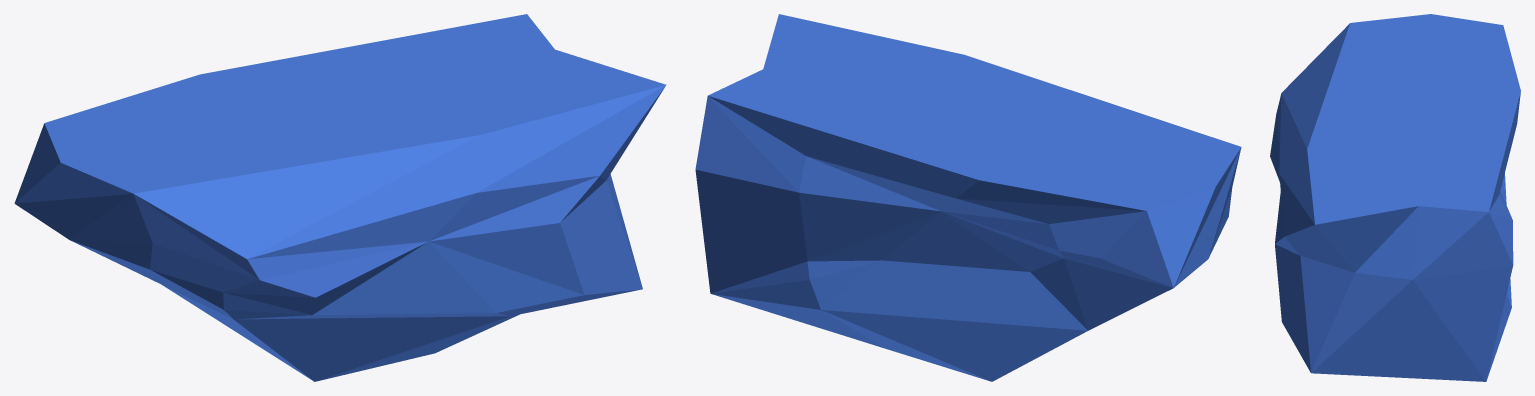
Rendered from sp_mountain03.glb.
3 renders of one model, left to right at view 1: azimuth 30°, elevation 25°; view 2: azimuth 150°, elevation 25°; view 3: azimuth 270°, elevation 25°, orthographic. The views are drawn at different scales.
Parts seen in each view (by area): view 1: SP_Mountain03; view 2: SP_Mountain03; view 3: SP_Mountain03.
Boxes of the visible parts, x1,y1,x2,y2 form: SP_Mountain03: (14, 14, 666, 381); SP_Mountain03: (695, 14, 1241, 381); SP_Mountain03: (1270, 14, 1520, 381).
Bounding box in the file's own units: 304 × 148 × 153.
Materials: 1 (1 with a texture image).
